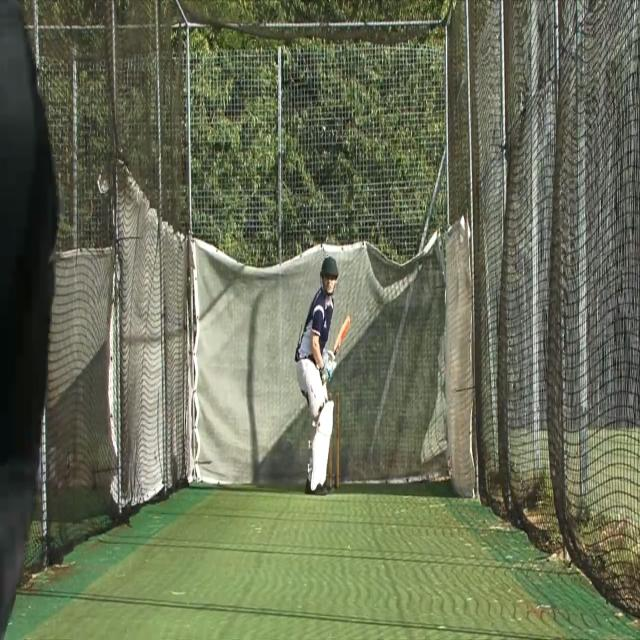batsman: (293, 253, 352, 497)
